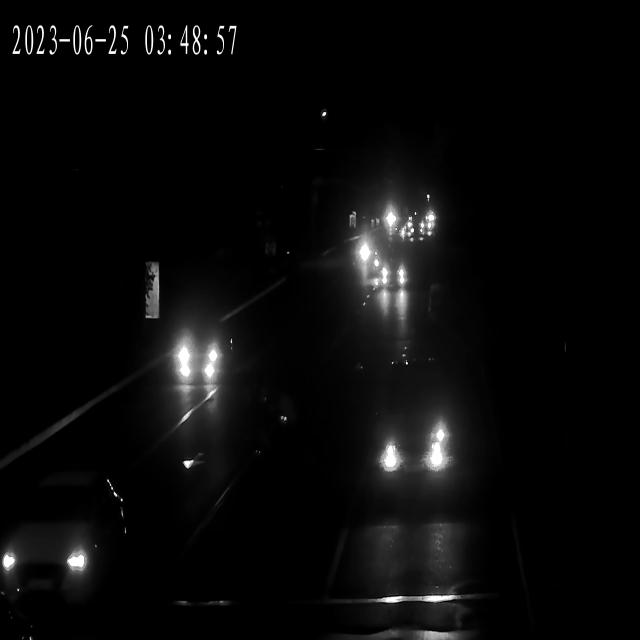Car: (2, 482, 129, 597), (364, 388, 463, 496), (172, 322, 233, 384), (370, 260, 406, 295), (355, 235, 389, 266), (406, 222, 430, 240), (396, 228, 414, 242)
